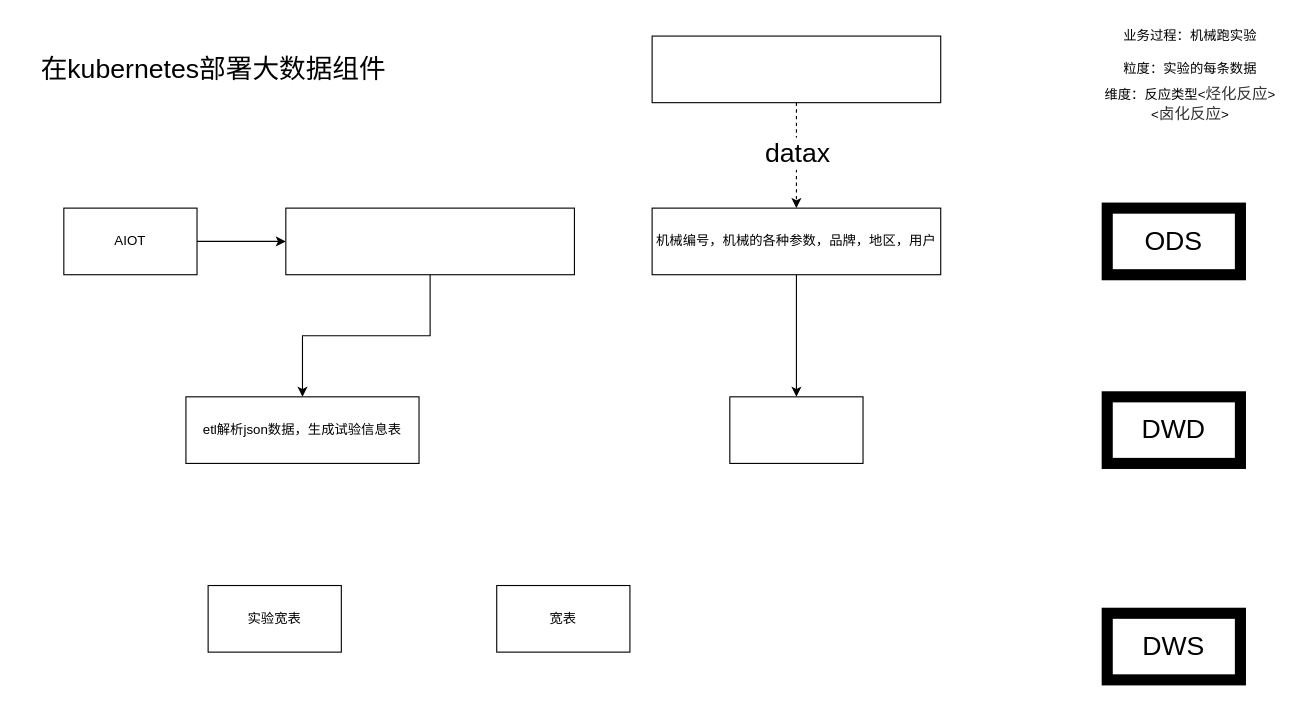
Image size: 1314x704. Some labels were removed from this diagram. The box of each missing label's shape, as (x1, y1, x2, y2) in pixels:
postgres维度数据库: (651, 35, 941, 103)
前端和后端进行处理，发送过来数据<json>，保存在minio中，每个json包含多条数据: (285, 207, 574, 275)
对数据进行脱维: (729, 396, 863, 463)
